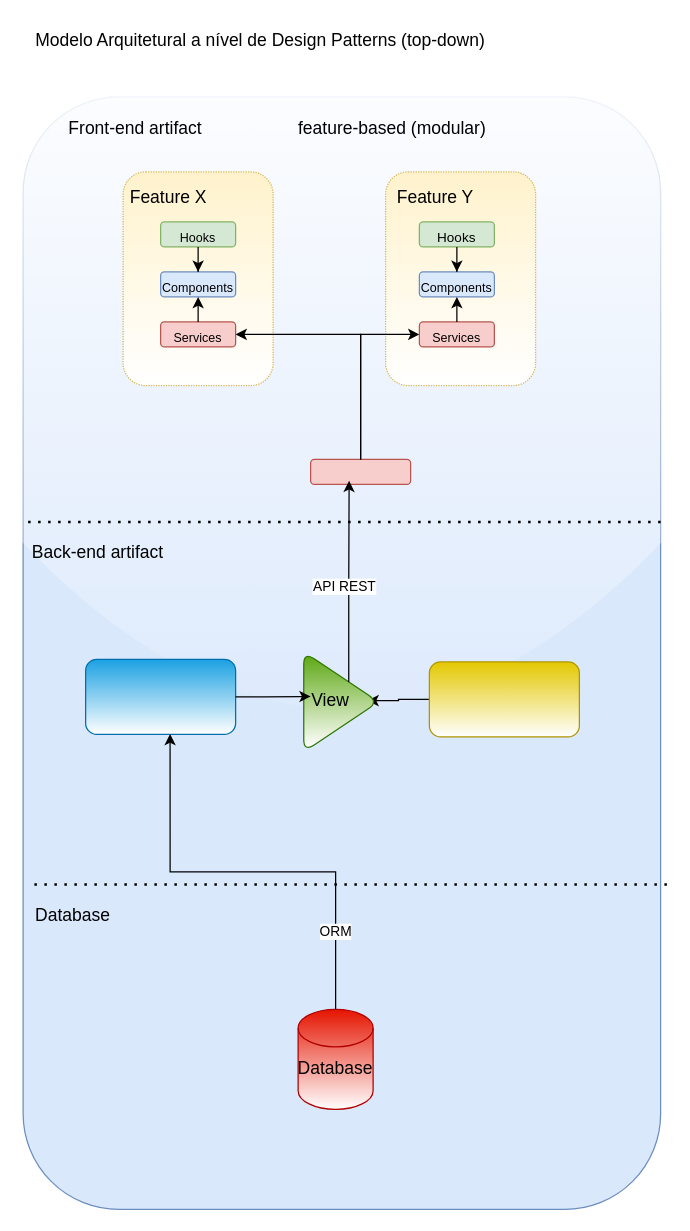
This 690x1231 diagram has some shape labels left out. The shapes that lost their labels are listed below. From the top down, each one's box as (x1, y1, x2, y2) in pixels, then its label:
(309, 458, 411, 484): Service Layer
(84, 658, 236, 734): Model
(428, 661, 579, 737): Serializer
